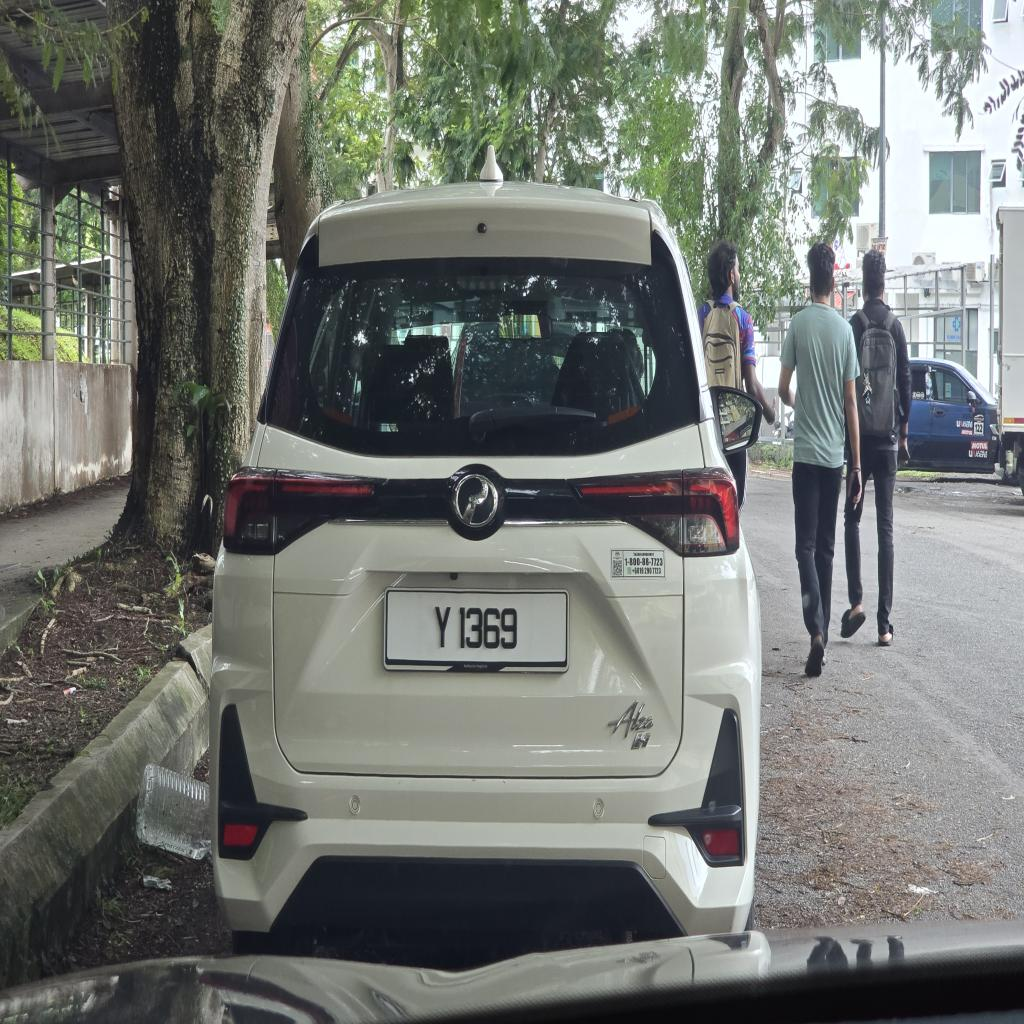car: (210, 183, 761, 962)
car plate: (385, 590, 567, 671)
